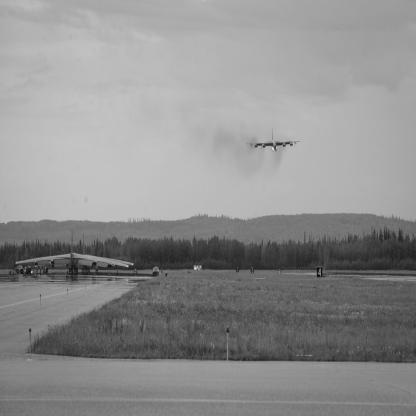B52: (16, 228, 130, 276), (35, 234, 135, 275), (247, 128, 301, 153)
